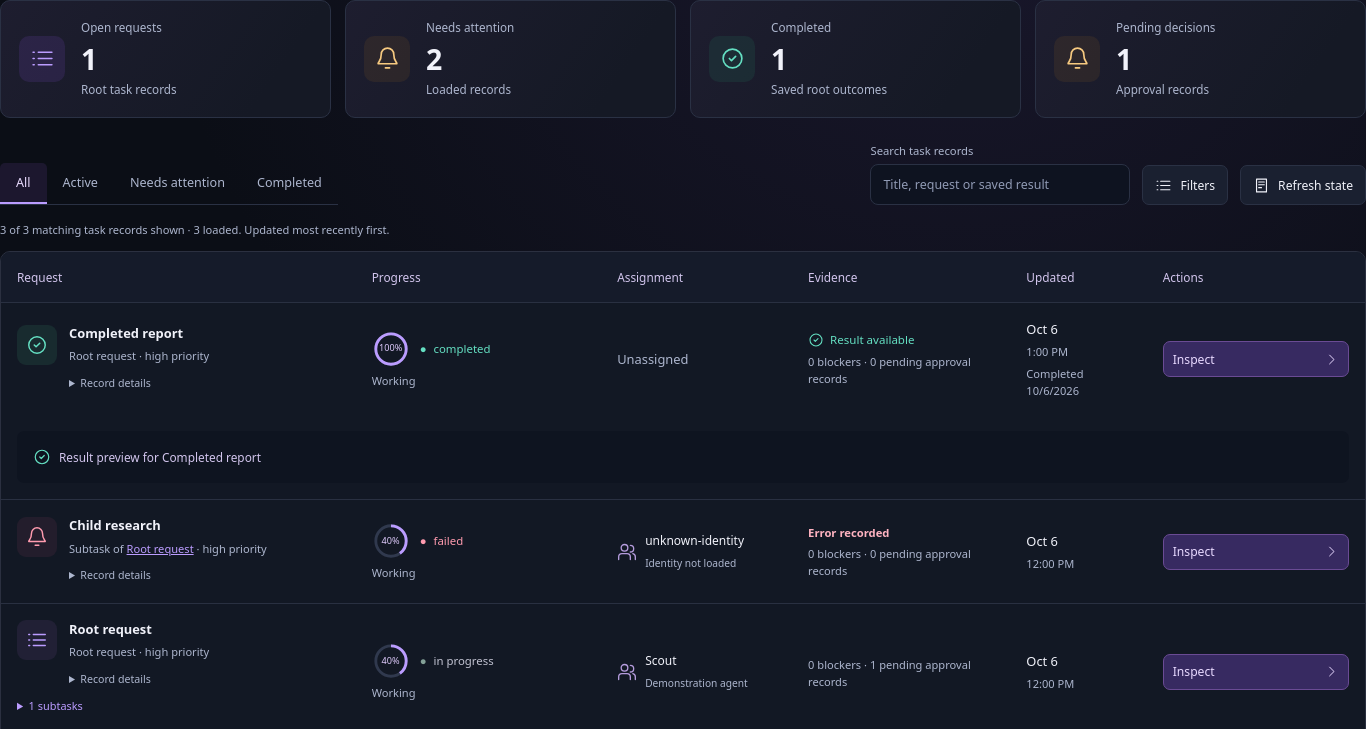
completed lookup searches real results without claiming verified execution
Click the button "Filters". click: {"x": 1185, "y": 185}
box: left=1142, top=165, right=1228, bottom=205
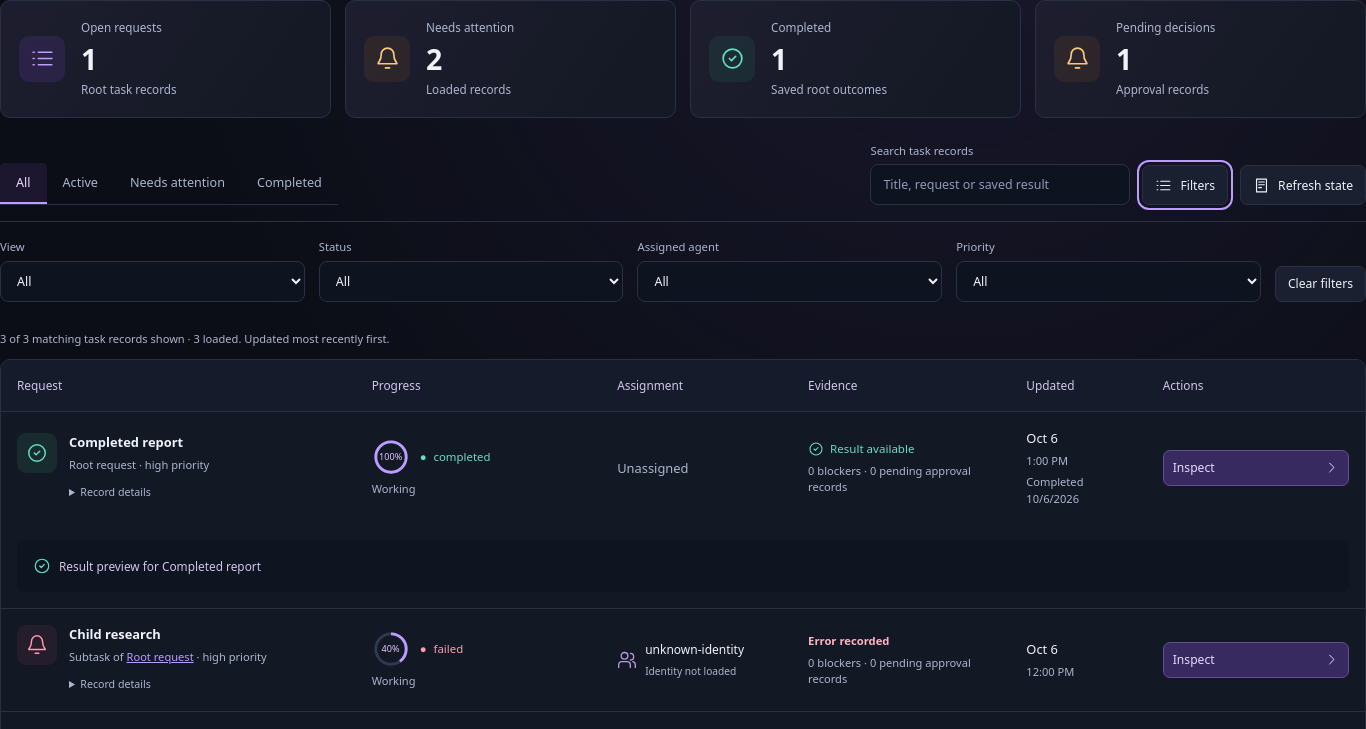
Select "Completed" in the dropdown labelled "View". click: {"x": 152, "y": 281}
box: left=0, top=261, right=305, bottom=302
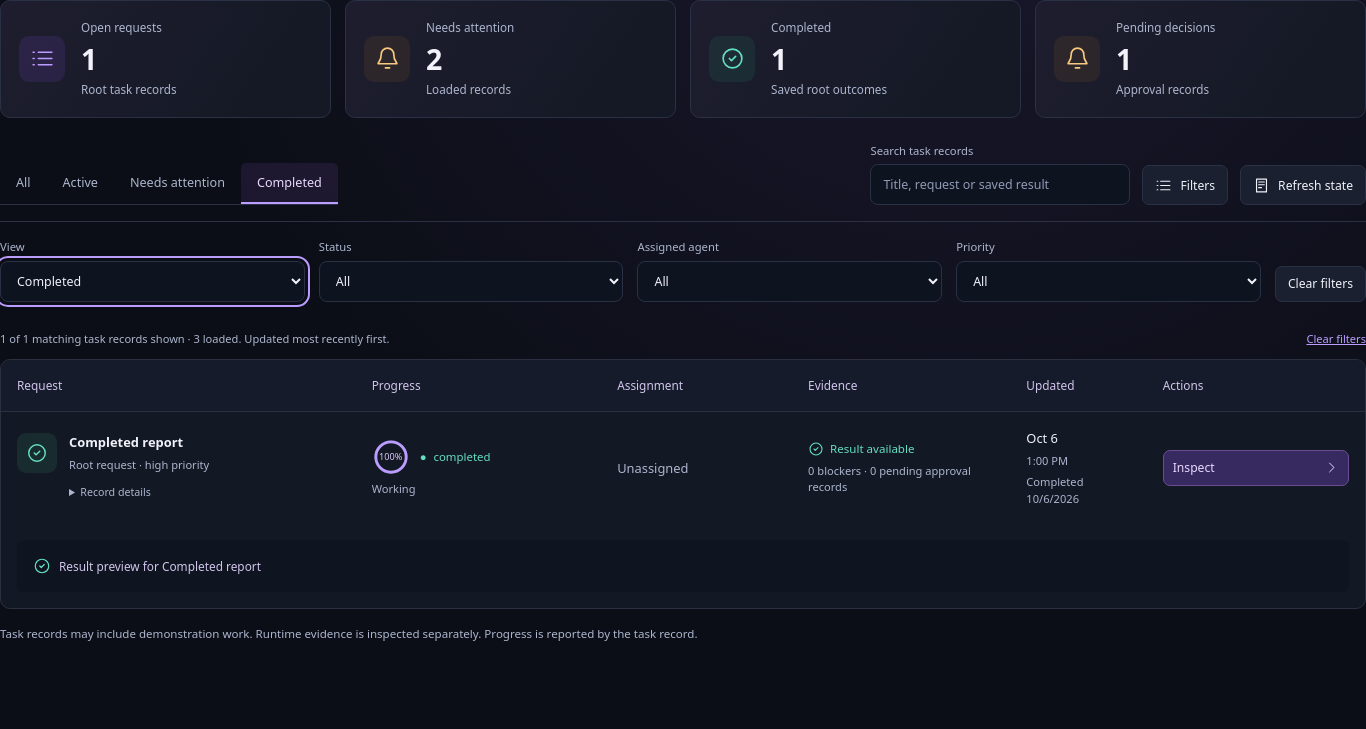
Type "Recorded report" into the search field. click: {"x": 1000, "y": 185}
box: left=870, top=164, right=1130, bottom=205
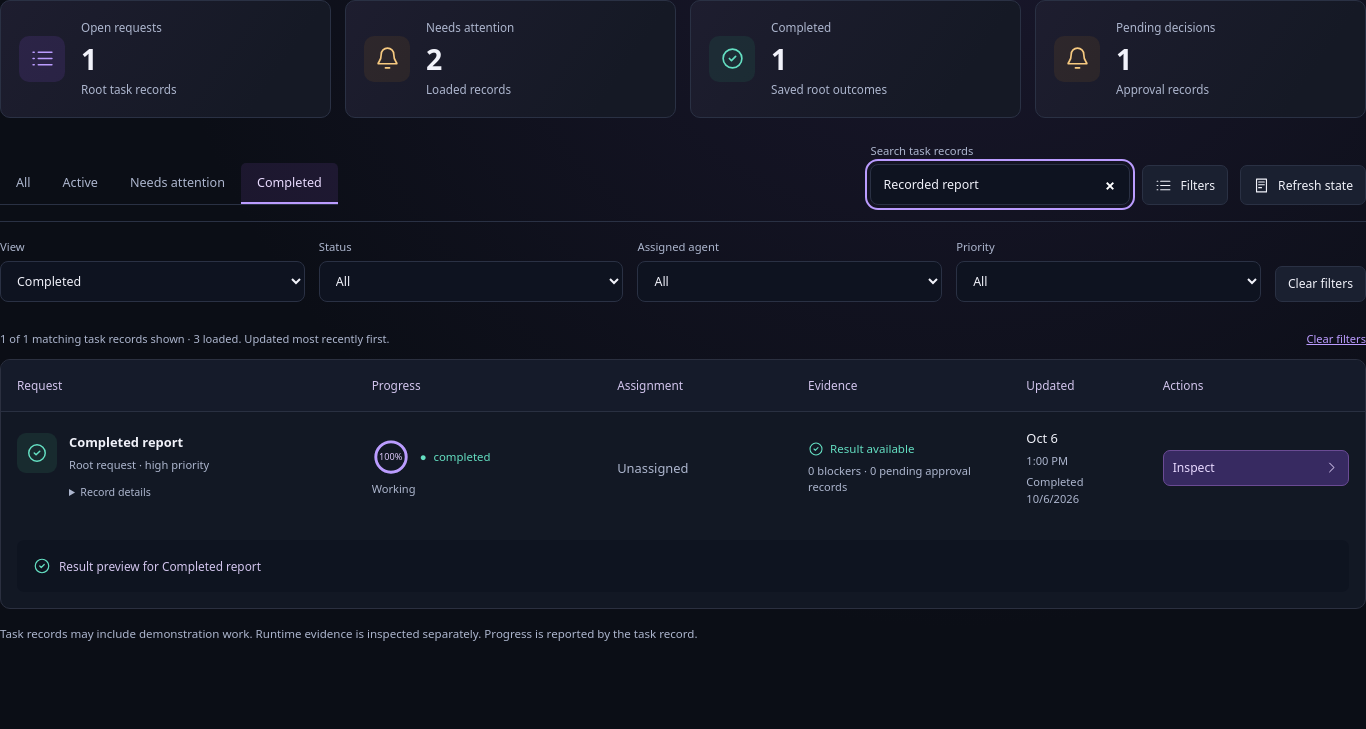
Check: the text "1 of 1 matching" is shown, box left=0, top=330, right=390, bottom=348
Click the heading "Result preview for Completed report". click: {"x": 147, "y": 566}
box: left=33, top=557, right=261, bottom=575
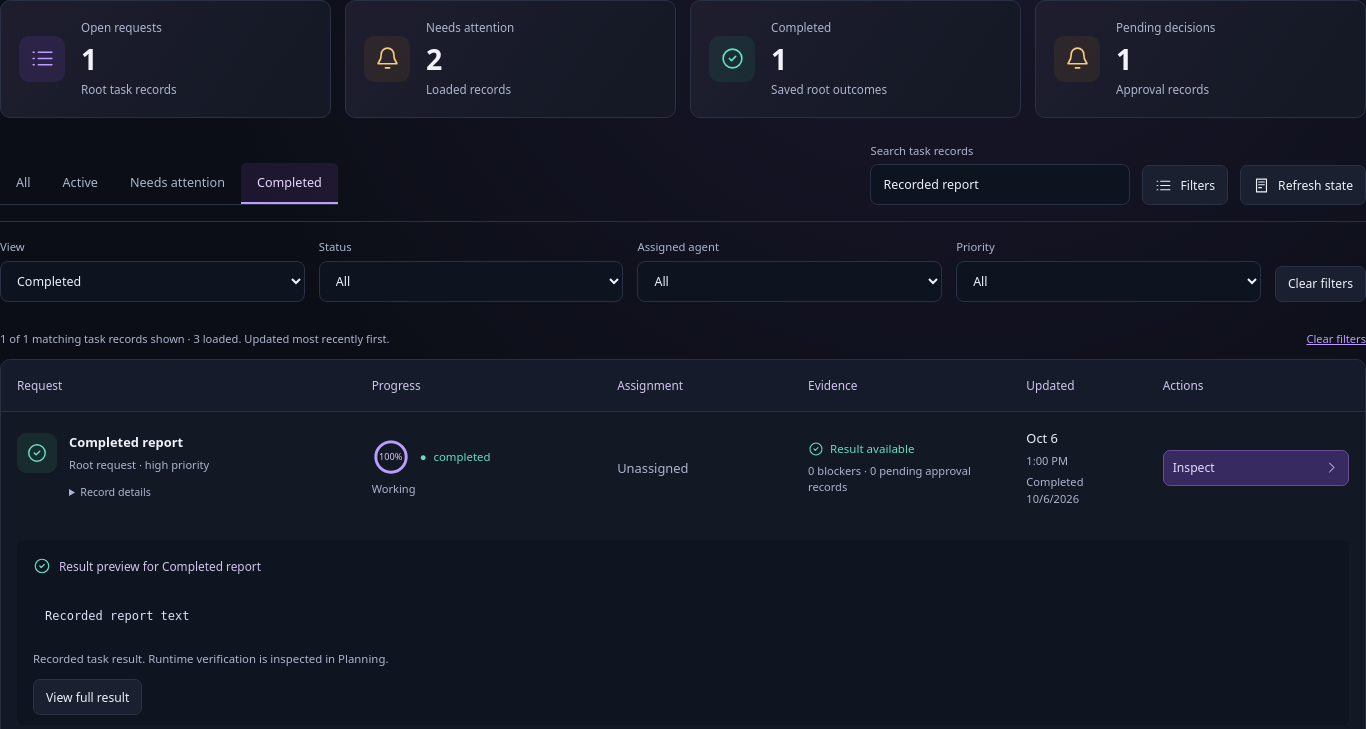
Check: the text "Recorded report text" is shown, box left=45, top=609, right=190, bottom=623
Check: the text "Runtime verification is inspected in Planning" is shown, box left=33, top=651, right=388, bottom=666
